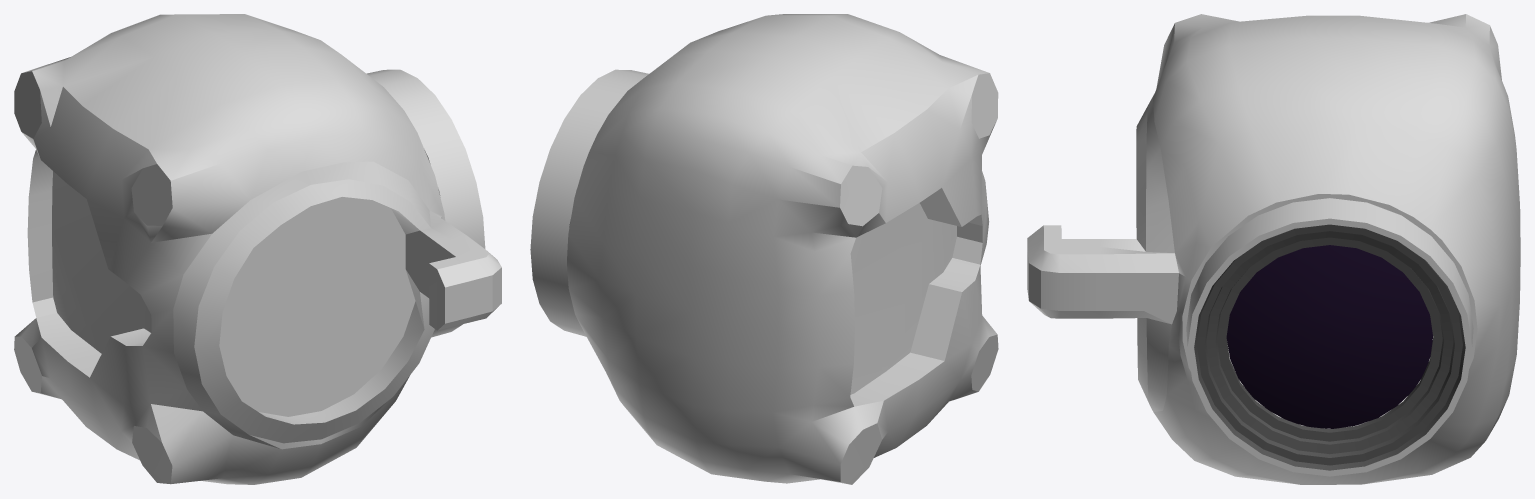
File: gimbal.dae
The picture shows the model from 3 angles, left to right: view 1: azimuth 30°, elevation 25°; view 2: azimuth 150°, elevation 25°; view 3: azimuth 270°, elevation 25°; orthographic projection. The views are drawn at different scales.
Visible parts, largest first — view 1: Camera_Lens; view 2: Camera_Lens; view 3: Camera_Lens.
Part boxes in pixels (x1,y1,x2,y2): Camera_Lens: (14, 14, 501, 484); Camera_Lens: (530, 14, 998, 484); Camera_Lens: (1027, 14, 1520, 484).
Bounding box in the file's own units: 0.0279 × 0.0335 × 0.0318.
